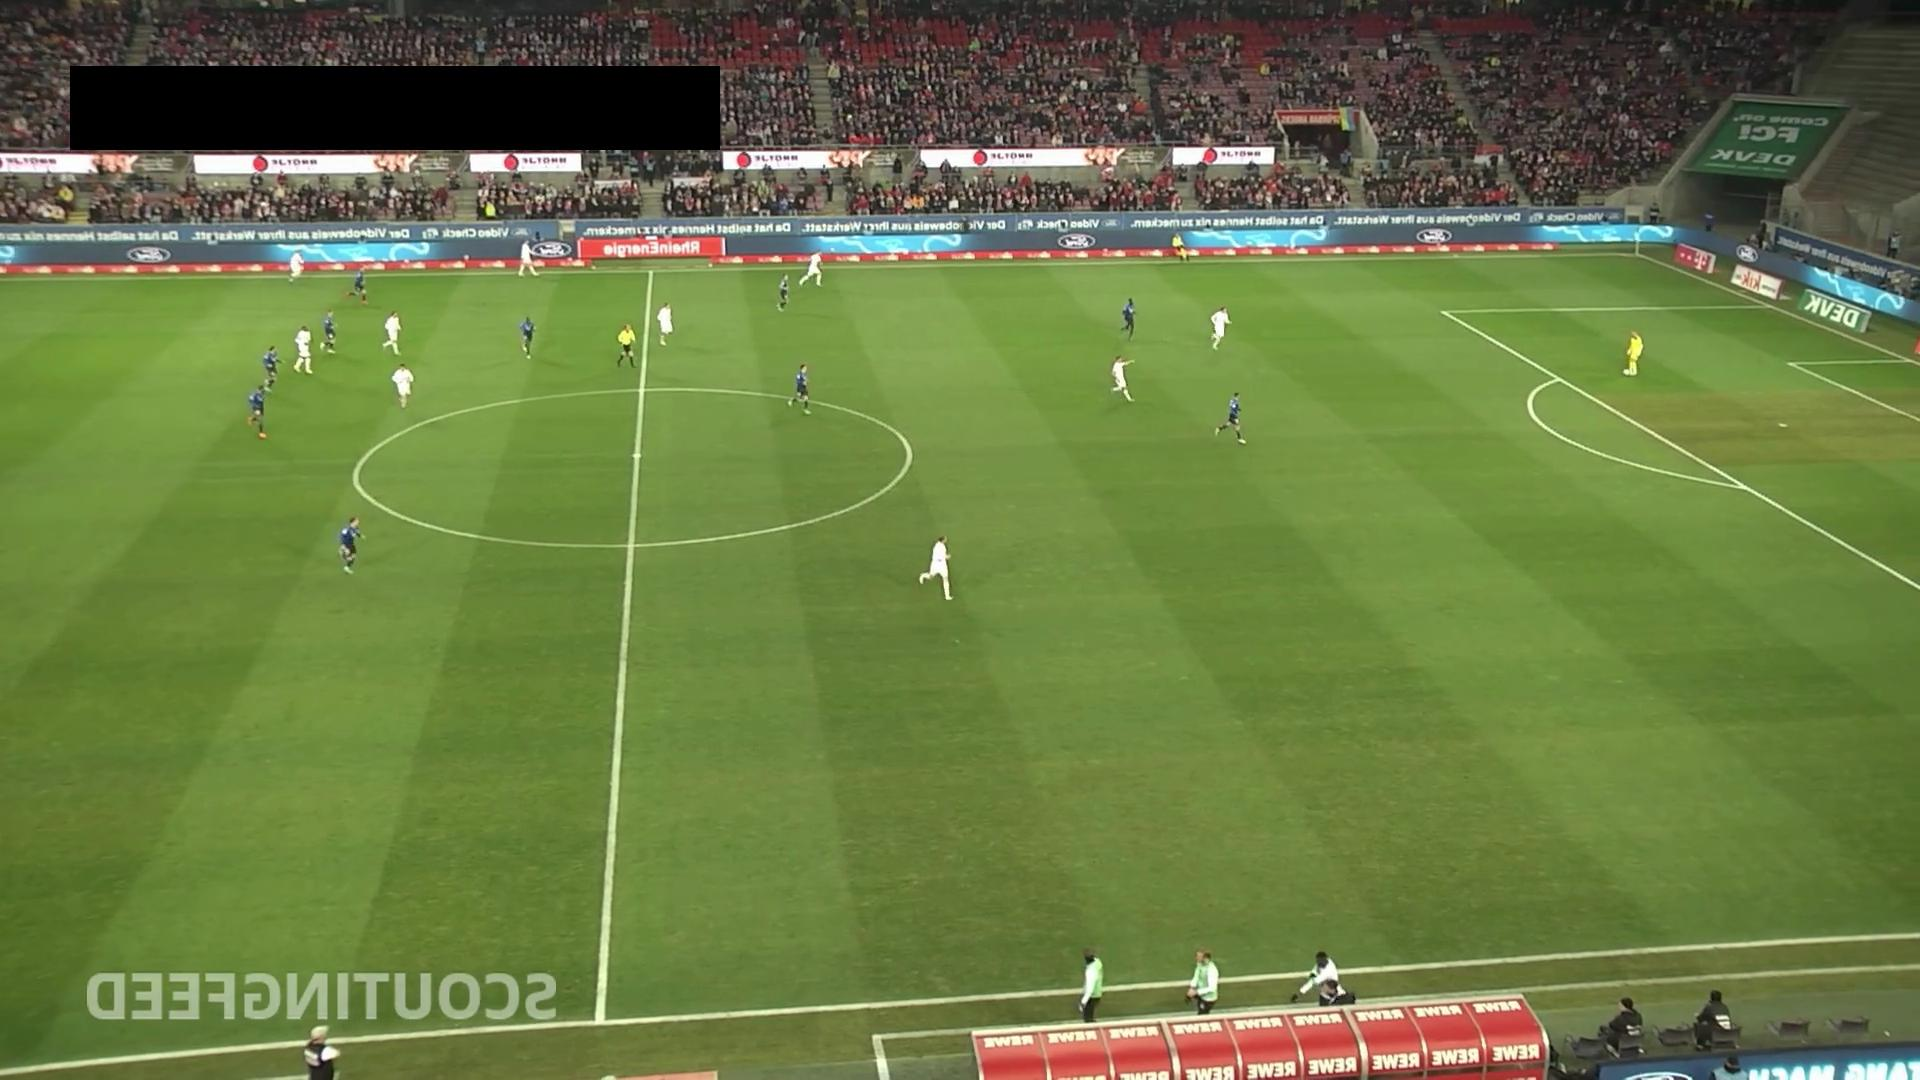ball: (1622, 368, 1631, 377)
goalkeeper: (1626, 329, 1644, 376)
player: (919, 533, 957, 604), (1214, 391, 1247, 445), (337, 515, 366, 575), (785, 362, 813, 416), (258, 345, 287, 393), (1109, 353, 1136, 402), (246, 385, 269, 441), (293, 323, 314, 375), (391, 362, 414, 409), (1209, 305, 1231, 350), (382, 310, 403, 356), (799, 251, 823, 287), (319, 309, 337, 356), (1118, 297, 1136, 344), (518, 239, 540, 277), (345, 270, 368, 306), (656, 301, 673, 346), (519, 315, 536, 358), (774, 273, 791, 314), (288, 250, 305, 284)
referee: (615, 321, 637, 368), (1171, 232, 1191, 264)
